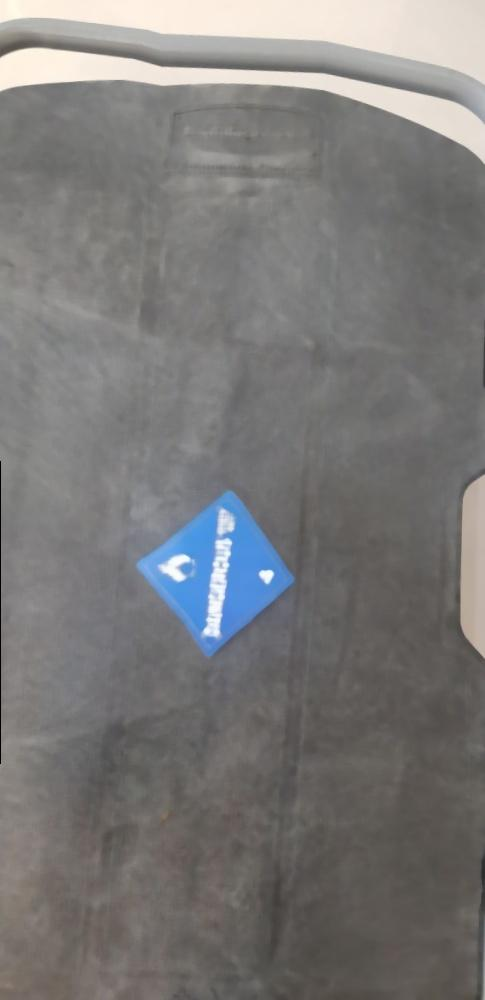dangerous-when-wet: (134, 484, 297, 658)
